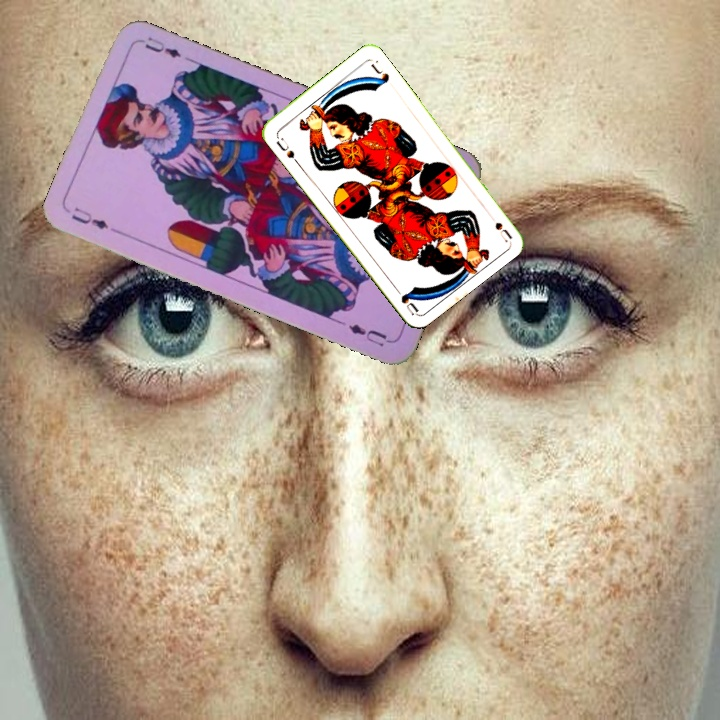EU: (67, 203, 123, 237)
SU: (483, 207, 514, 244), (272, 131, 301, 166)
